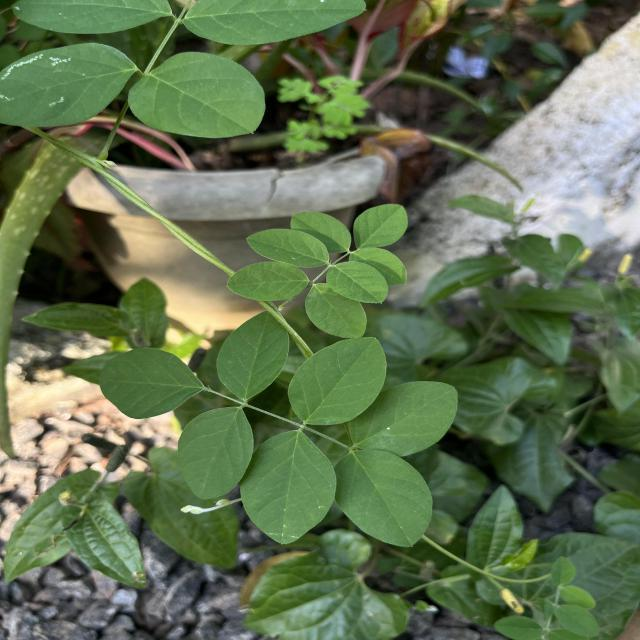Clitoria ternatea: (127, 50, 267, 140), (238, 429, 338, 546), (332, 448, 434, 548), (286, 336, 388, 427), (346, 380, 459, 458), (98, 346, 206, 419), (177, 405, 255, 500), (214, 309, 290, 402), (304, 282, 368, 338), (226, 260, 310, 302), (245, 228, 330, 268), (325, 260, 389, 304), (352, 203, 408, 250)
